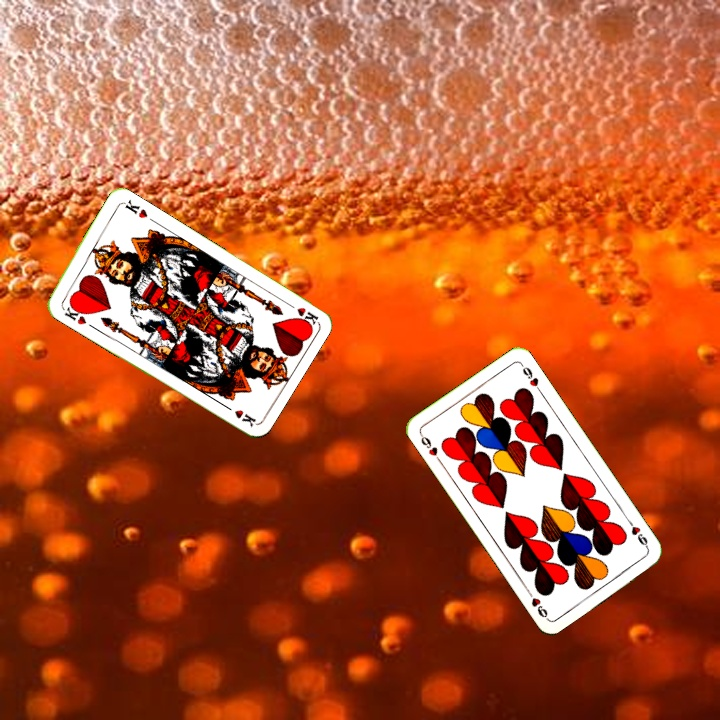H9: (416, 429, 443, 465), (624, 516, 651, 551)
HK: (282, 298, 320, 329), (60, 300, 89, 327)
